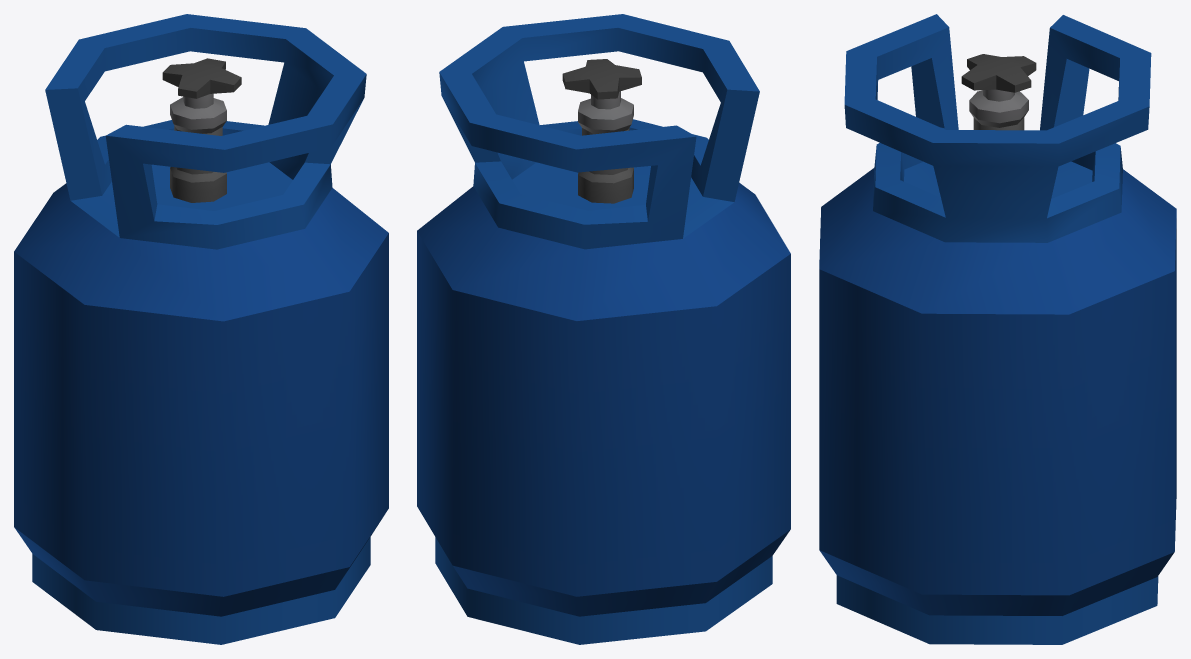
File: GasCylinder_2_4.fbx
The picture shows the model from 3 angles, left to right: view 1: azimuth 30°, elevation 25°; view 2: azimuth 150°, elevation 25°; view 3: azimuth 270°, elevation 25°; orthographic projection.
Visible parts, largest first — view 1: GasCylinder_2_4; view 2: GasCylinder_2_4; view 3: GasCylinder_2_4.
Part boxes in pixels (<box>): GasCylinder_2_4: <box>14,14,388,644</box>; GasCylinder_2_4: <box>417,14,790,644</box>; GasCylinder_2_4: <box>819,14,1176,644</box>.
Size of the model in its own units: 38.47 by 60.7 by 38.47.
